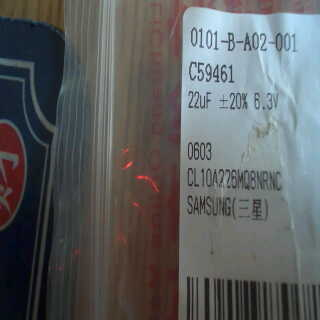22uF: (184, 89, 216, 111)
